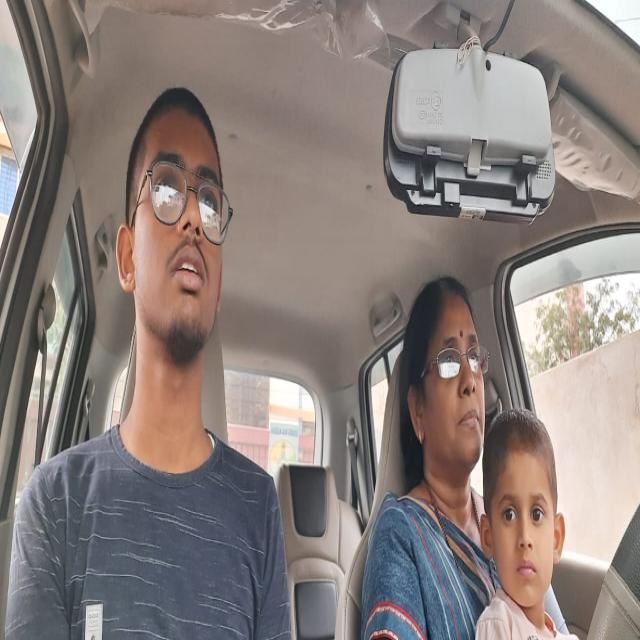child: (479, 404, 569, 630)
person: (113, 77, 230, 390), (405, 269, 495, 486)
